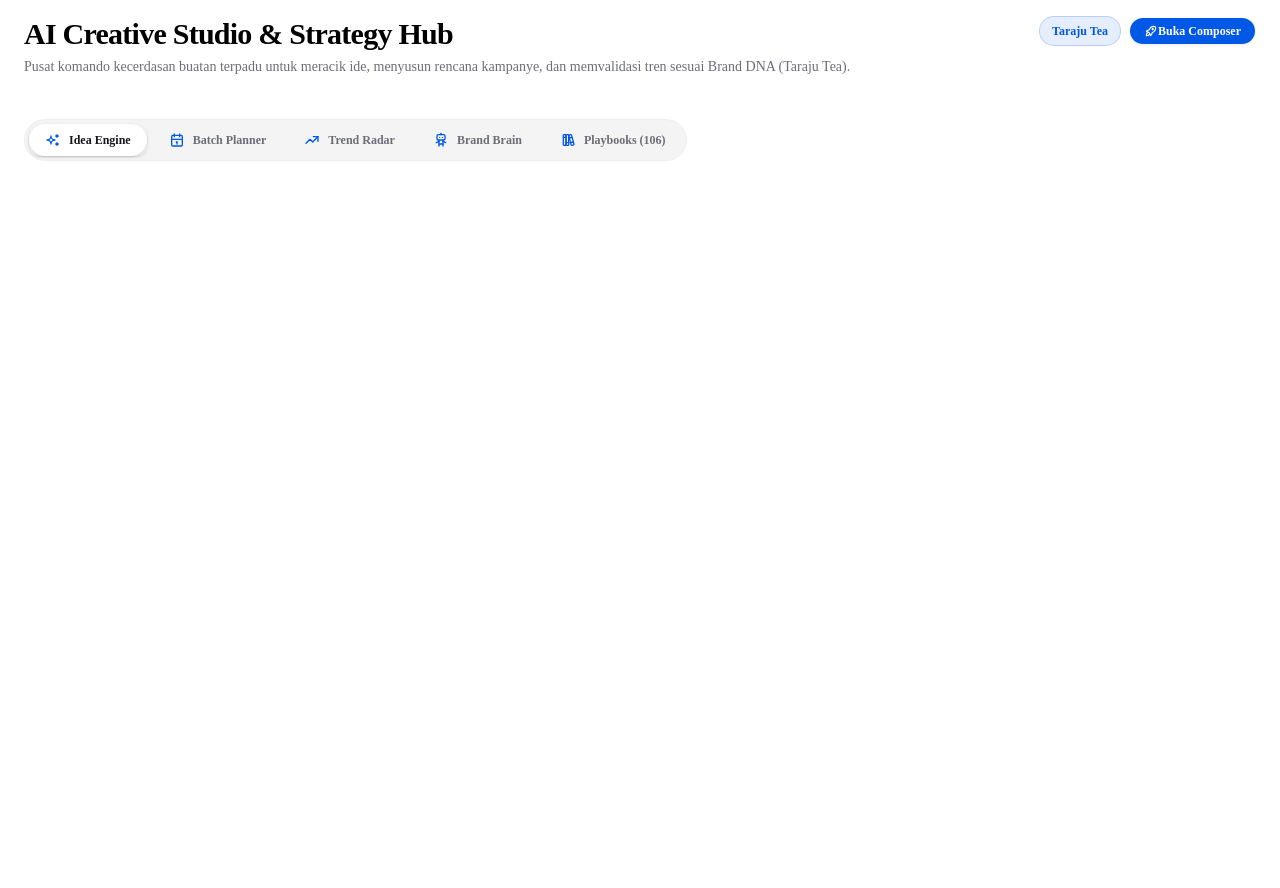
Test case: AiStudioClient › switches to Brand Brain tab and displays active client profile DNA
This screenshot has width=1280, height=888.
Click the tab "Brand Brain" at x=477, y=140, box x1=417 y1=124 x2=538 y2=156
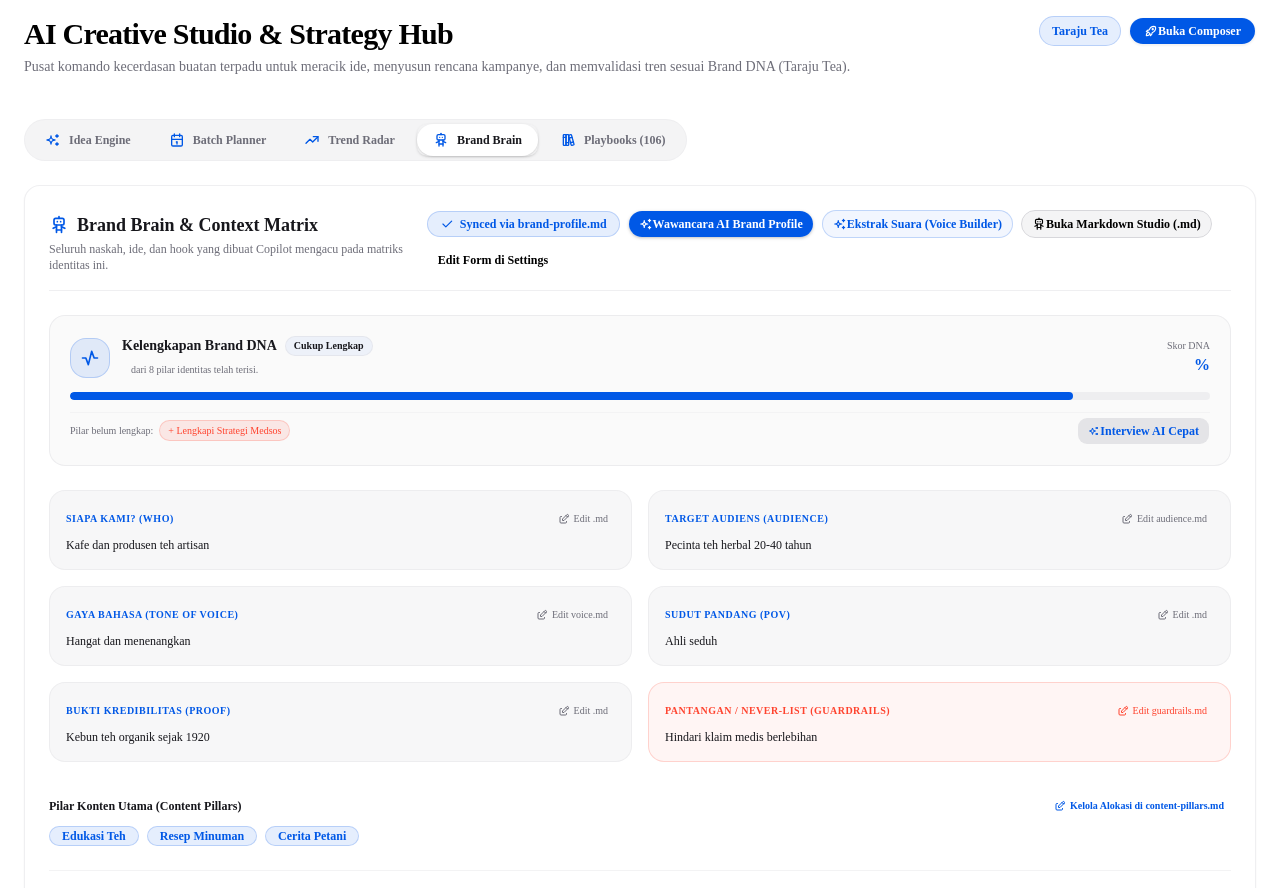
Now the heading "Brand Brain & Context Matrix" is shown, box x1=49 y1=215 x2=318 y2=235
Now the text "Kafe dan produsen teh artisan" is shown, box x1=66 y1=538 x2=209 y2=552
Now the text "Pecinta teh herbal 20-40 tahun" is shown, box x1=665 y1=538 x2=812 y2=552
